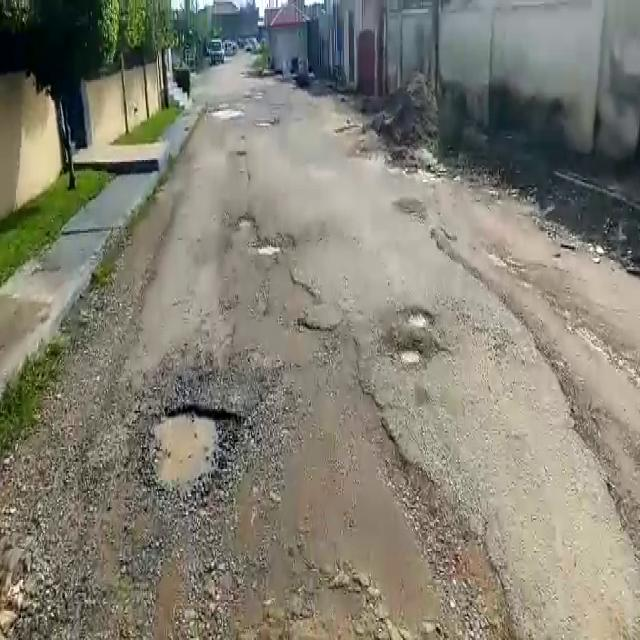Pothole: (147, 405, 245, 506), (400, 308, 436, 330), (254, 241, 282, 260), (401, 348, 421, 368), (234, 215, 256, 231)
